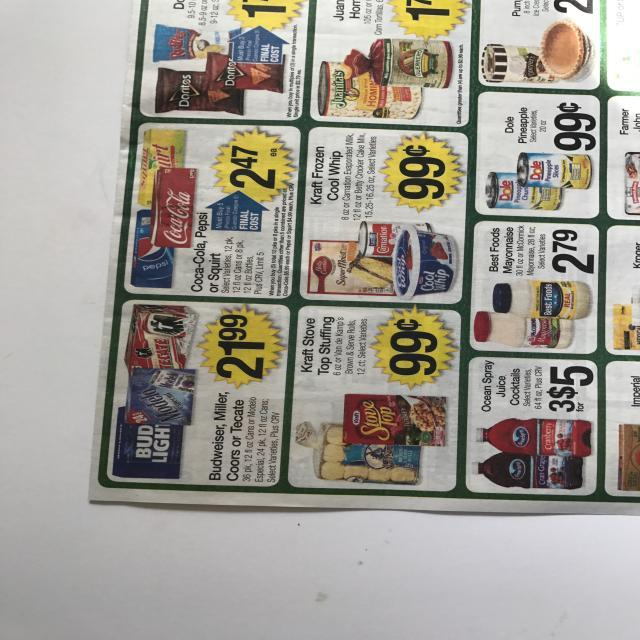paper: (73, 0, 640, 516)
